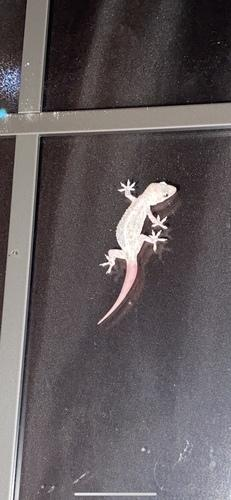lizard: (84, 175, 183, 325)
